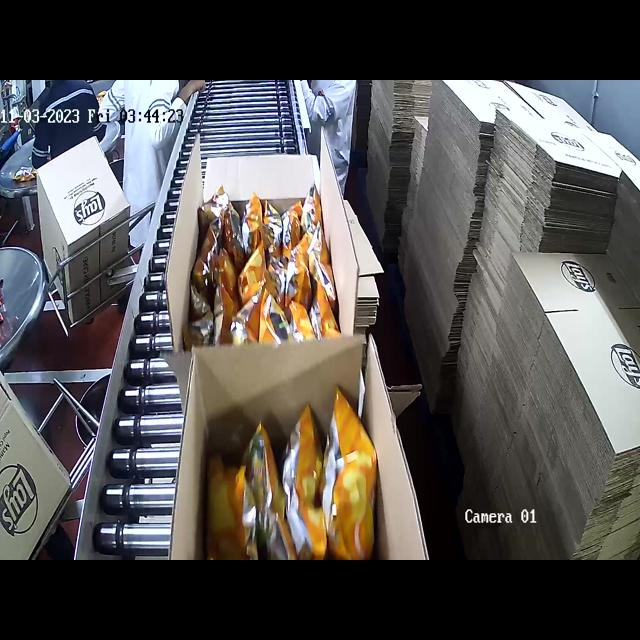cheese: (202, 398, 378, 560), (194, 194, 343, 357)
